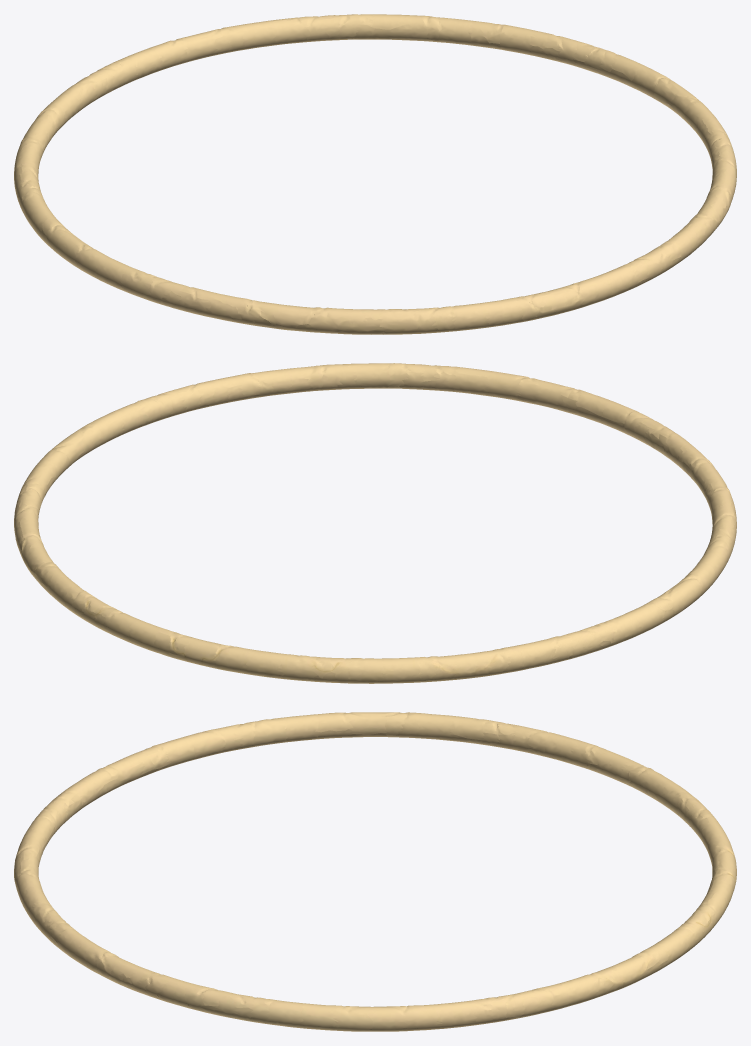
Rendered from ring_gold.glb.
3 renders of one model, top to bottom at view 1: azimuth 30°, elevation 25°; view 2: azimuth 150°, elevation 25°; view 3: azimuth 270°, elevation 25°, orthographic.
Size of the model in its own units: 1.9 by 0.0683 by 1.9.
1 material, 1 textured.
